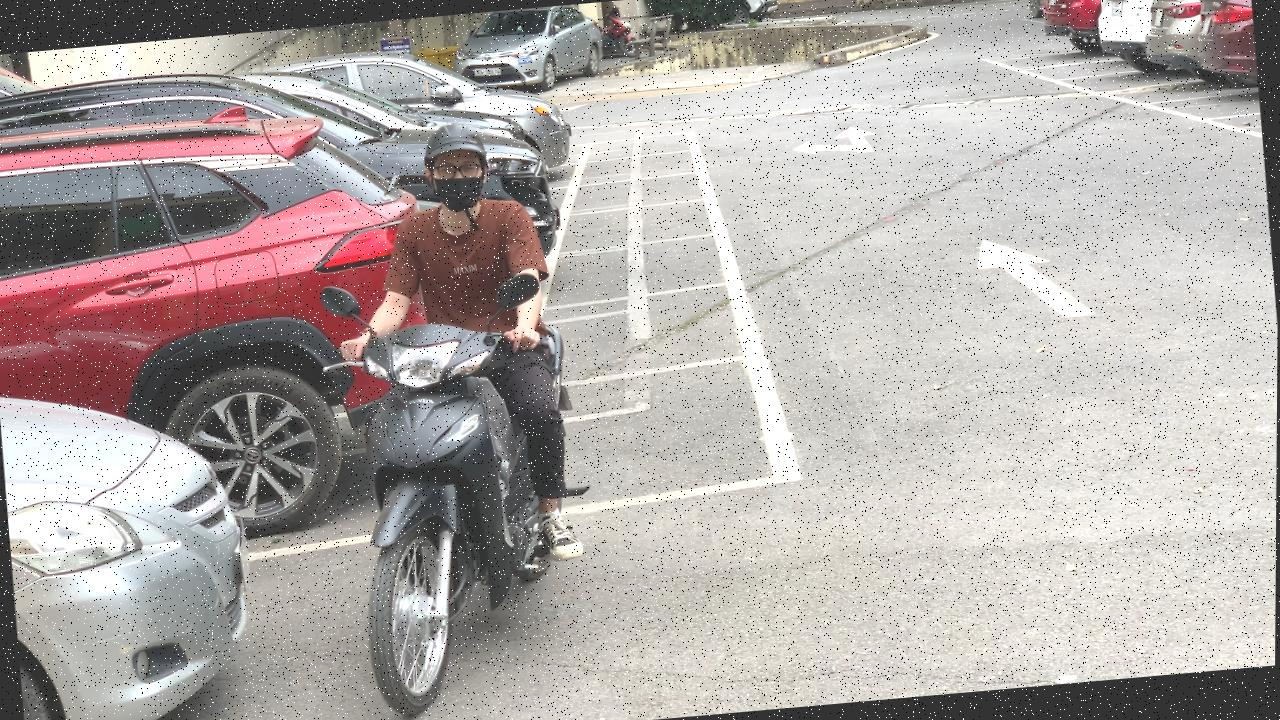helmet: (419, 120, 486, 164)
motorcyclist: (305, 110, 609, 718)
